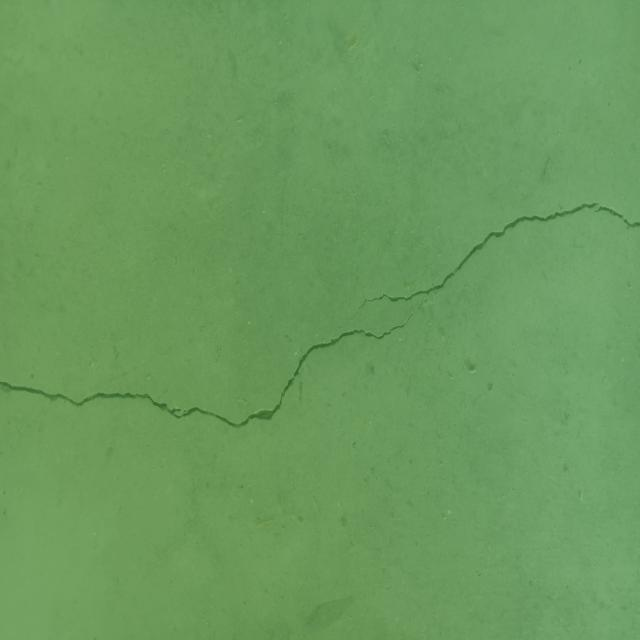crack: (0, 201, 640, 430)
